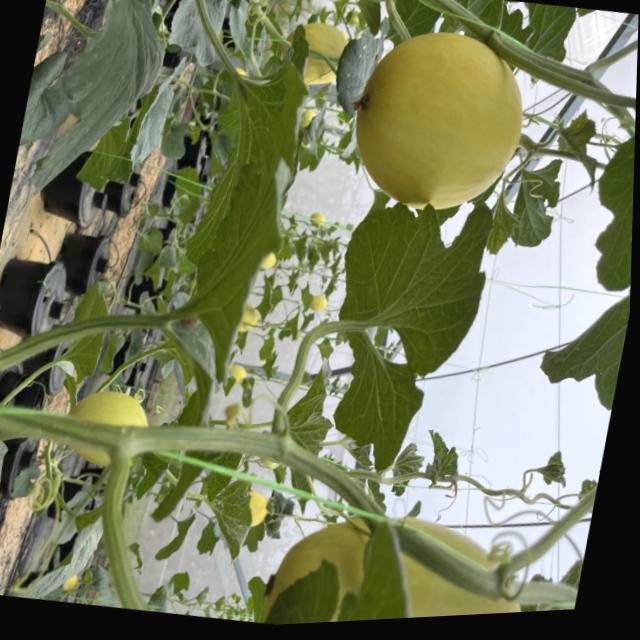downy mildew: (317, 177, 501, 397)
healthy: (22, 0, 183, 214), (180, 148, 298, 392), (318, 317, 437, 484), (528, 240, 632, 419), (504, 0, 585, 72), (0, 434, 9, 593)
